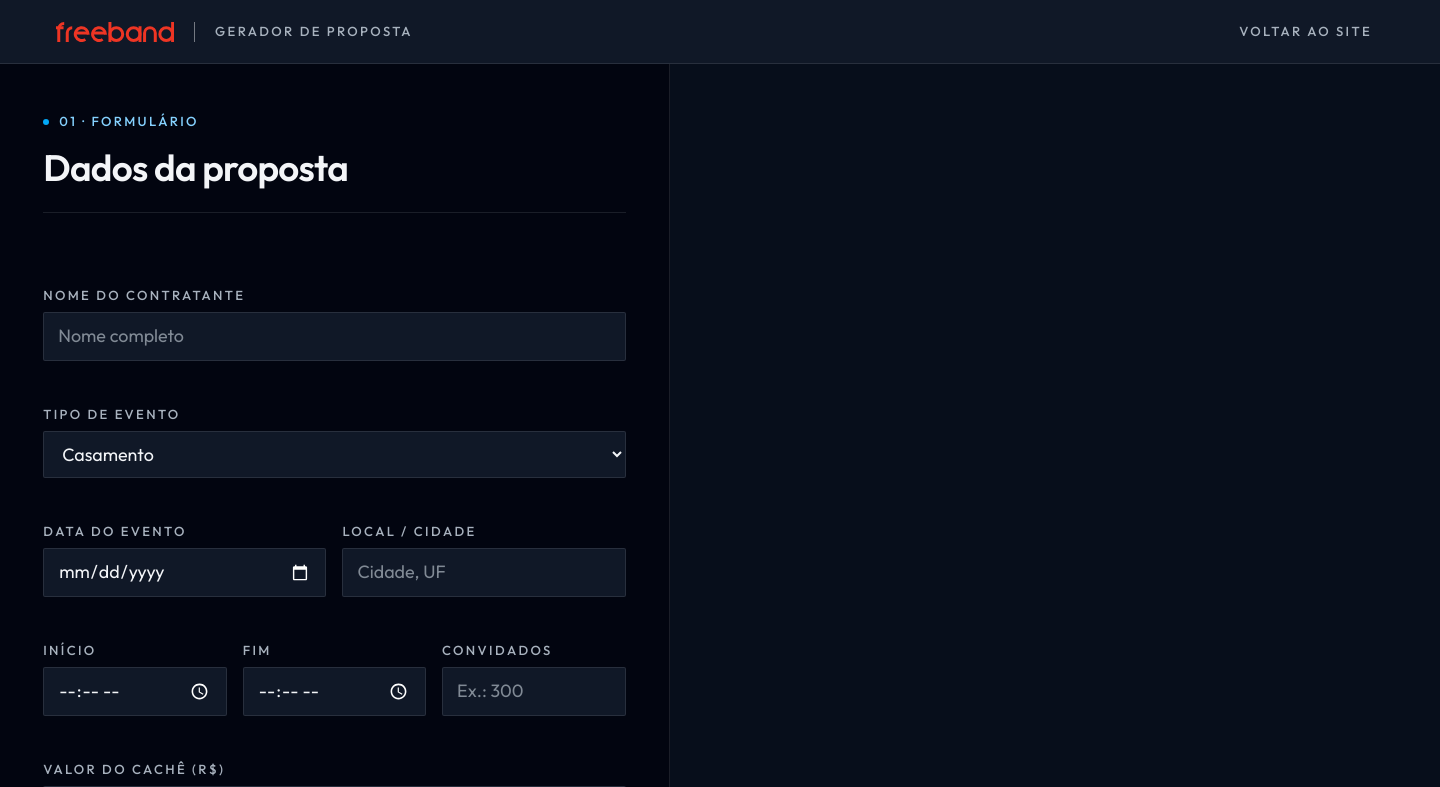
Test: orçamento editor: clearing the form › drops the undo once the producer starts a new proposal
Type "Prefeitura de Jaú" into the field labelled "Nome do Contratante" at (334, 336), box [43,312,626,361]
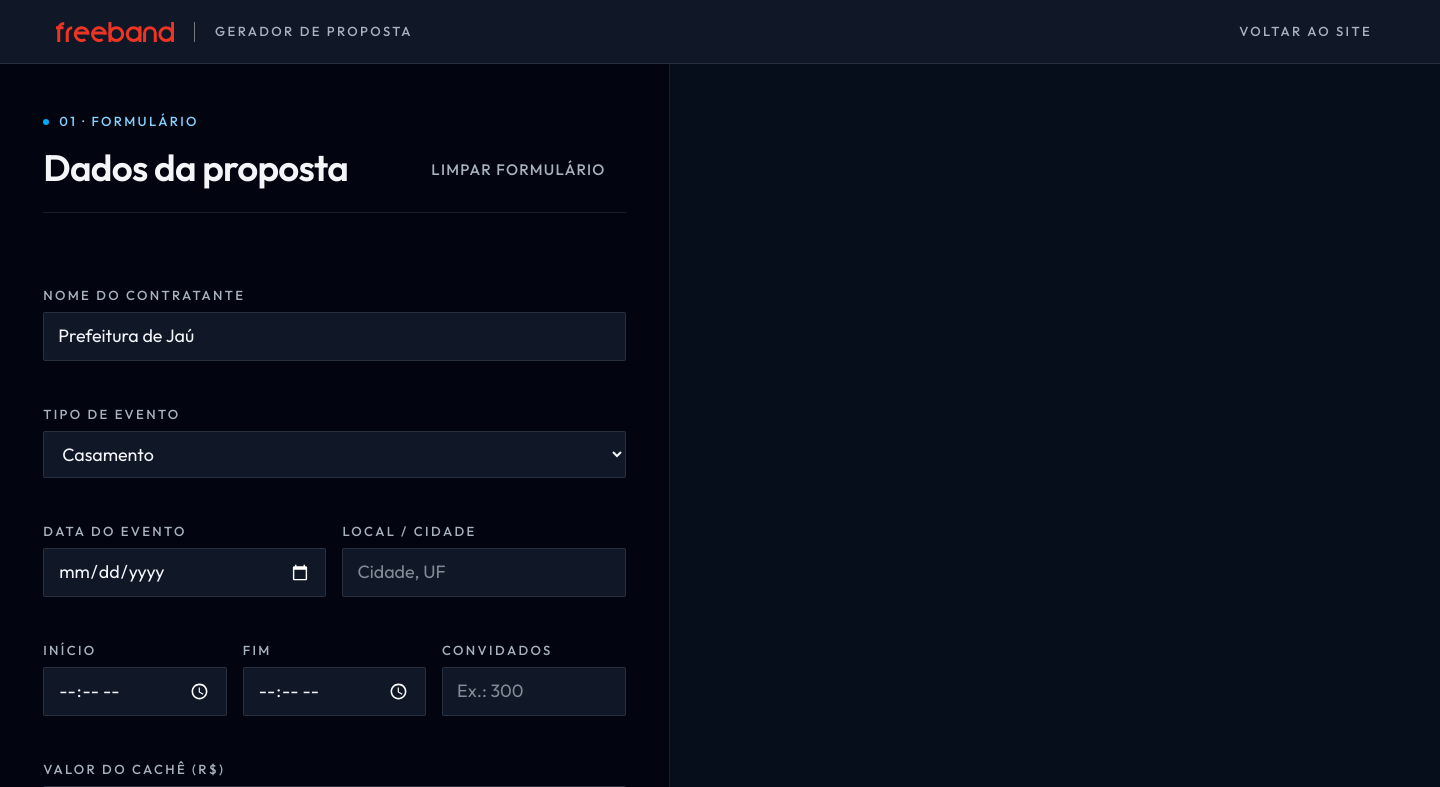
Click the button "Limpar formulário" at (518, 169), box [411,146,626,192]
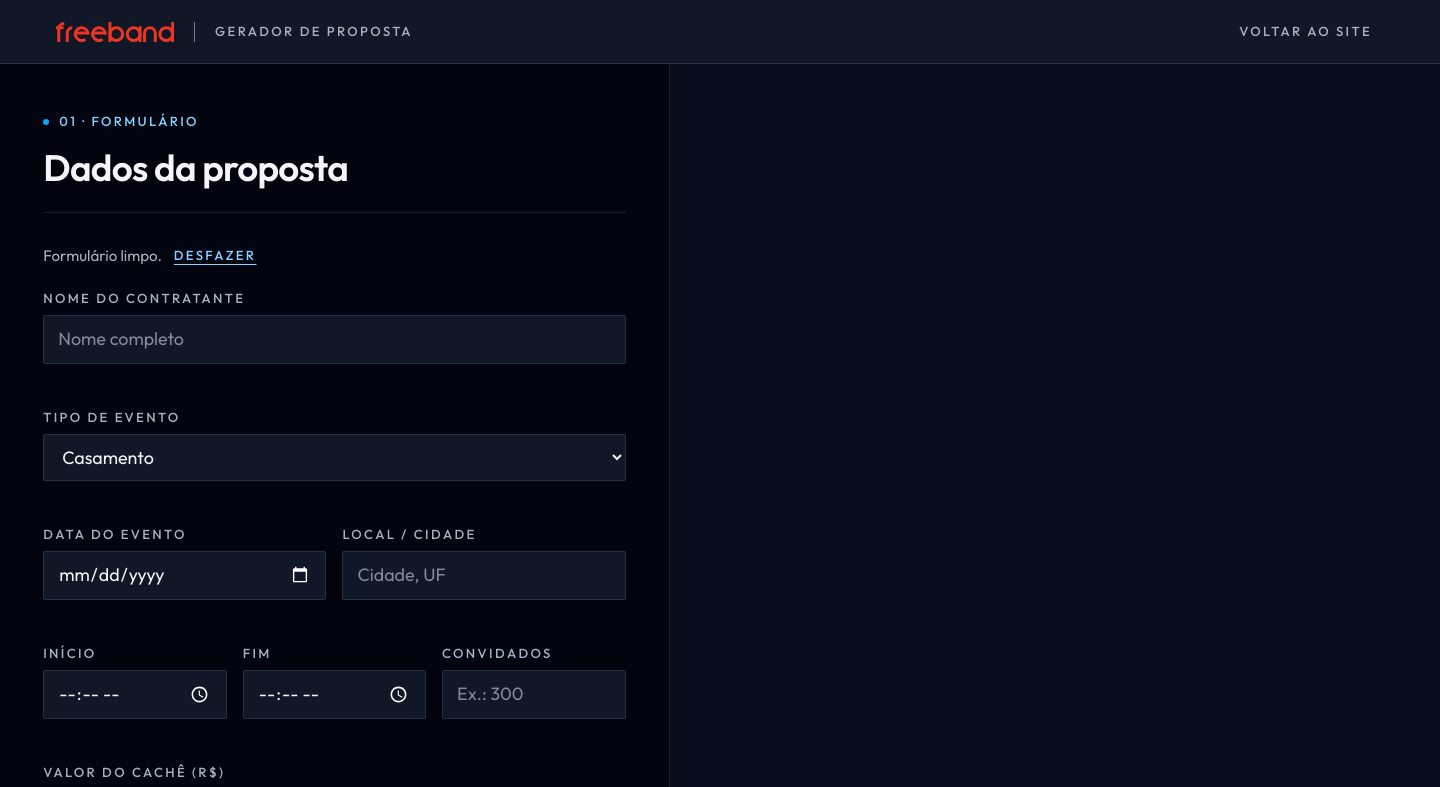
Type "Clube Náutico" into the field labelled "Nome do Contratante" at (334, 339), box [43,315,626,364]
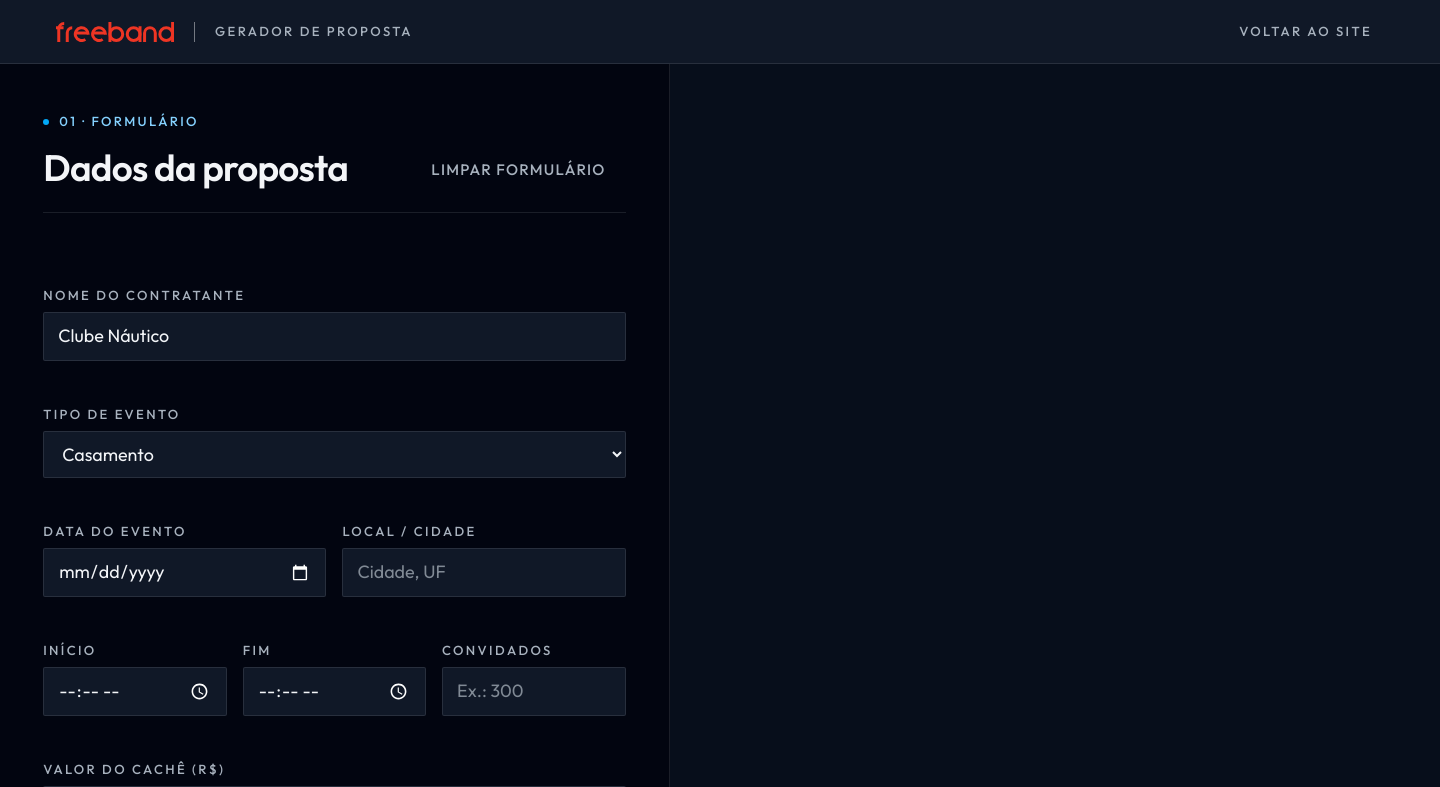
Check: the button "Desfazer" is gone
